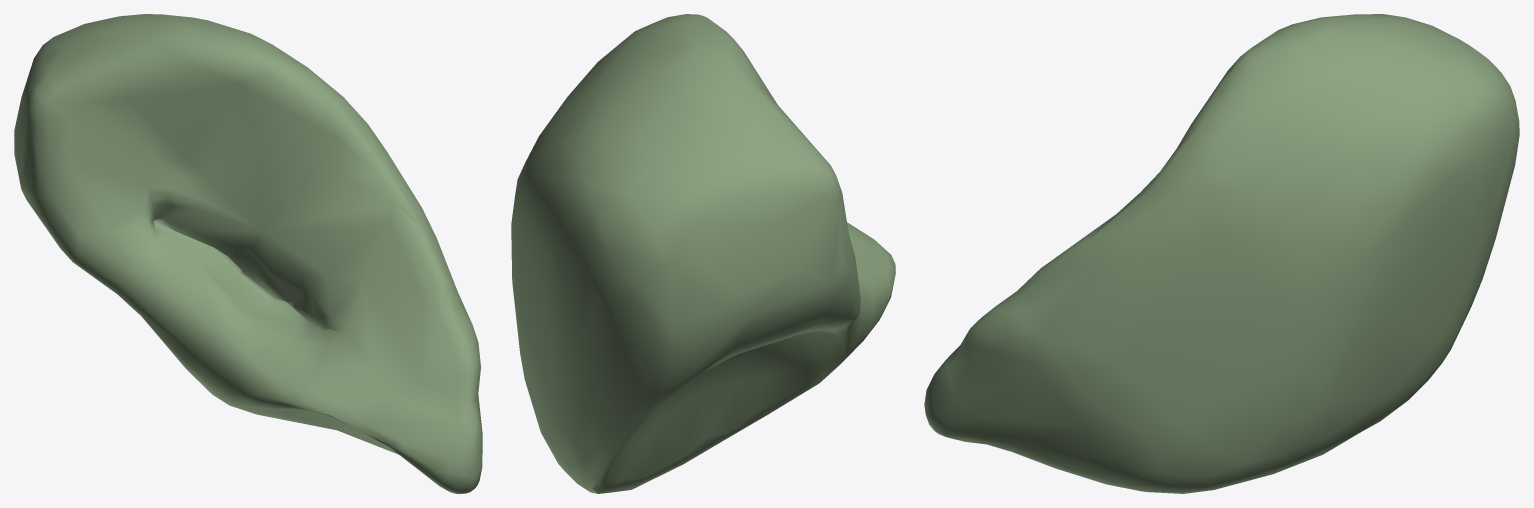
File: spleen.glb
3 renders of one model, left to right at view 1: azimuth 30°, elevation 25°; view 2: azimuth 150°, elevation 25°; view 3: azimuth 270°, elevation 25°, orthographic. The views are drawn at different scales.
Parts seen in each view (by area): view 1: spleen; view 2: spleen; view 3: spleen.
Boxes of the visible parts, box(x1,y1,x2,y2) form: spleen: box(14, 14, 482, 493); spleen: box(511, 14, 895, 493); spleen: box(924, 14, 1519, 493).
Size of the model in its own units: 0.0582 by 0.0702 by 0.0951.
